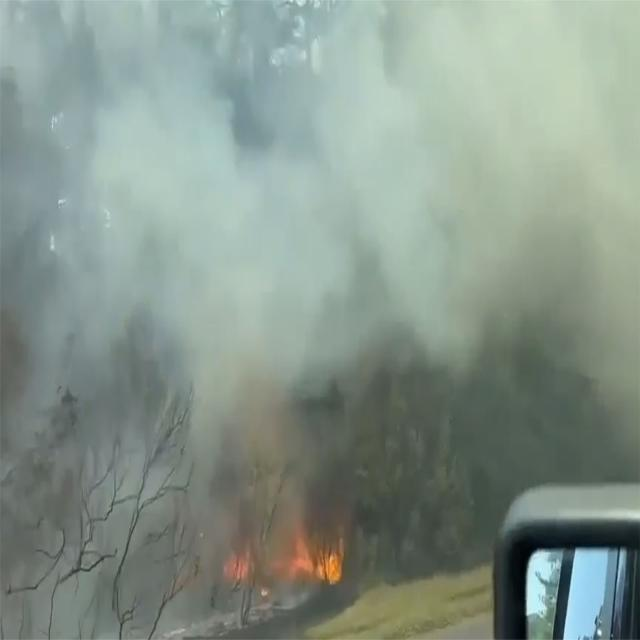Fire: (222, 504, 352, 602)
Smoke: (0, 0, 630, 490)
